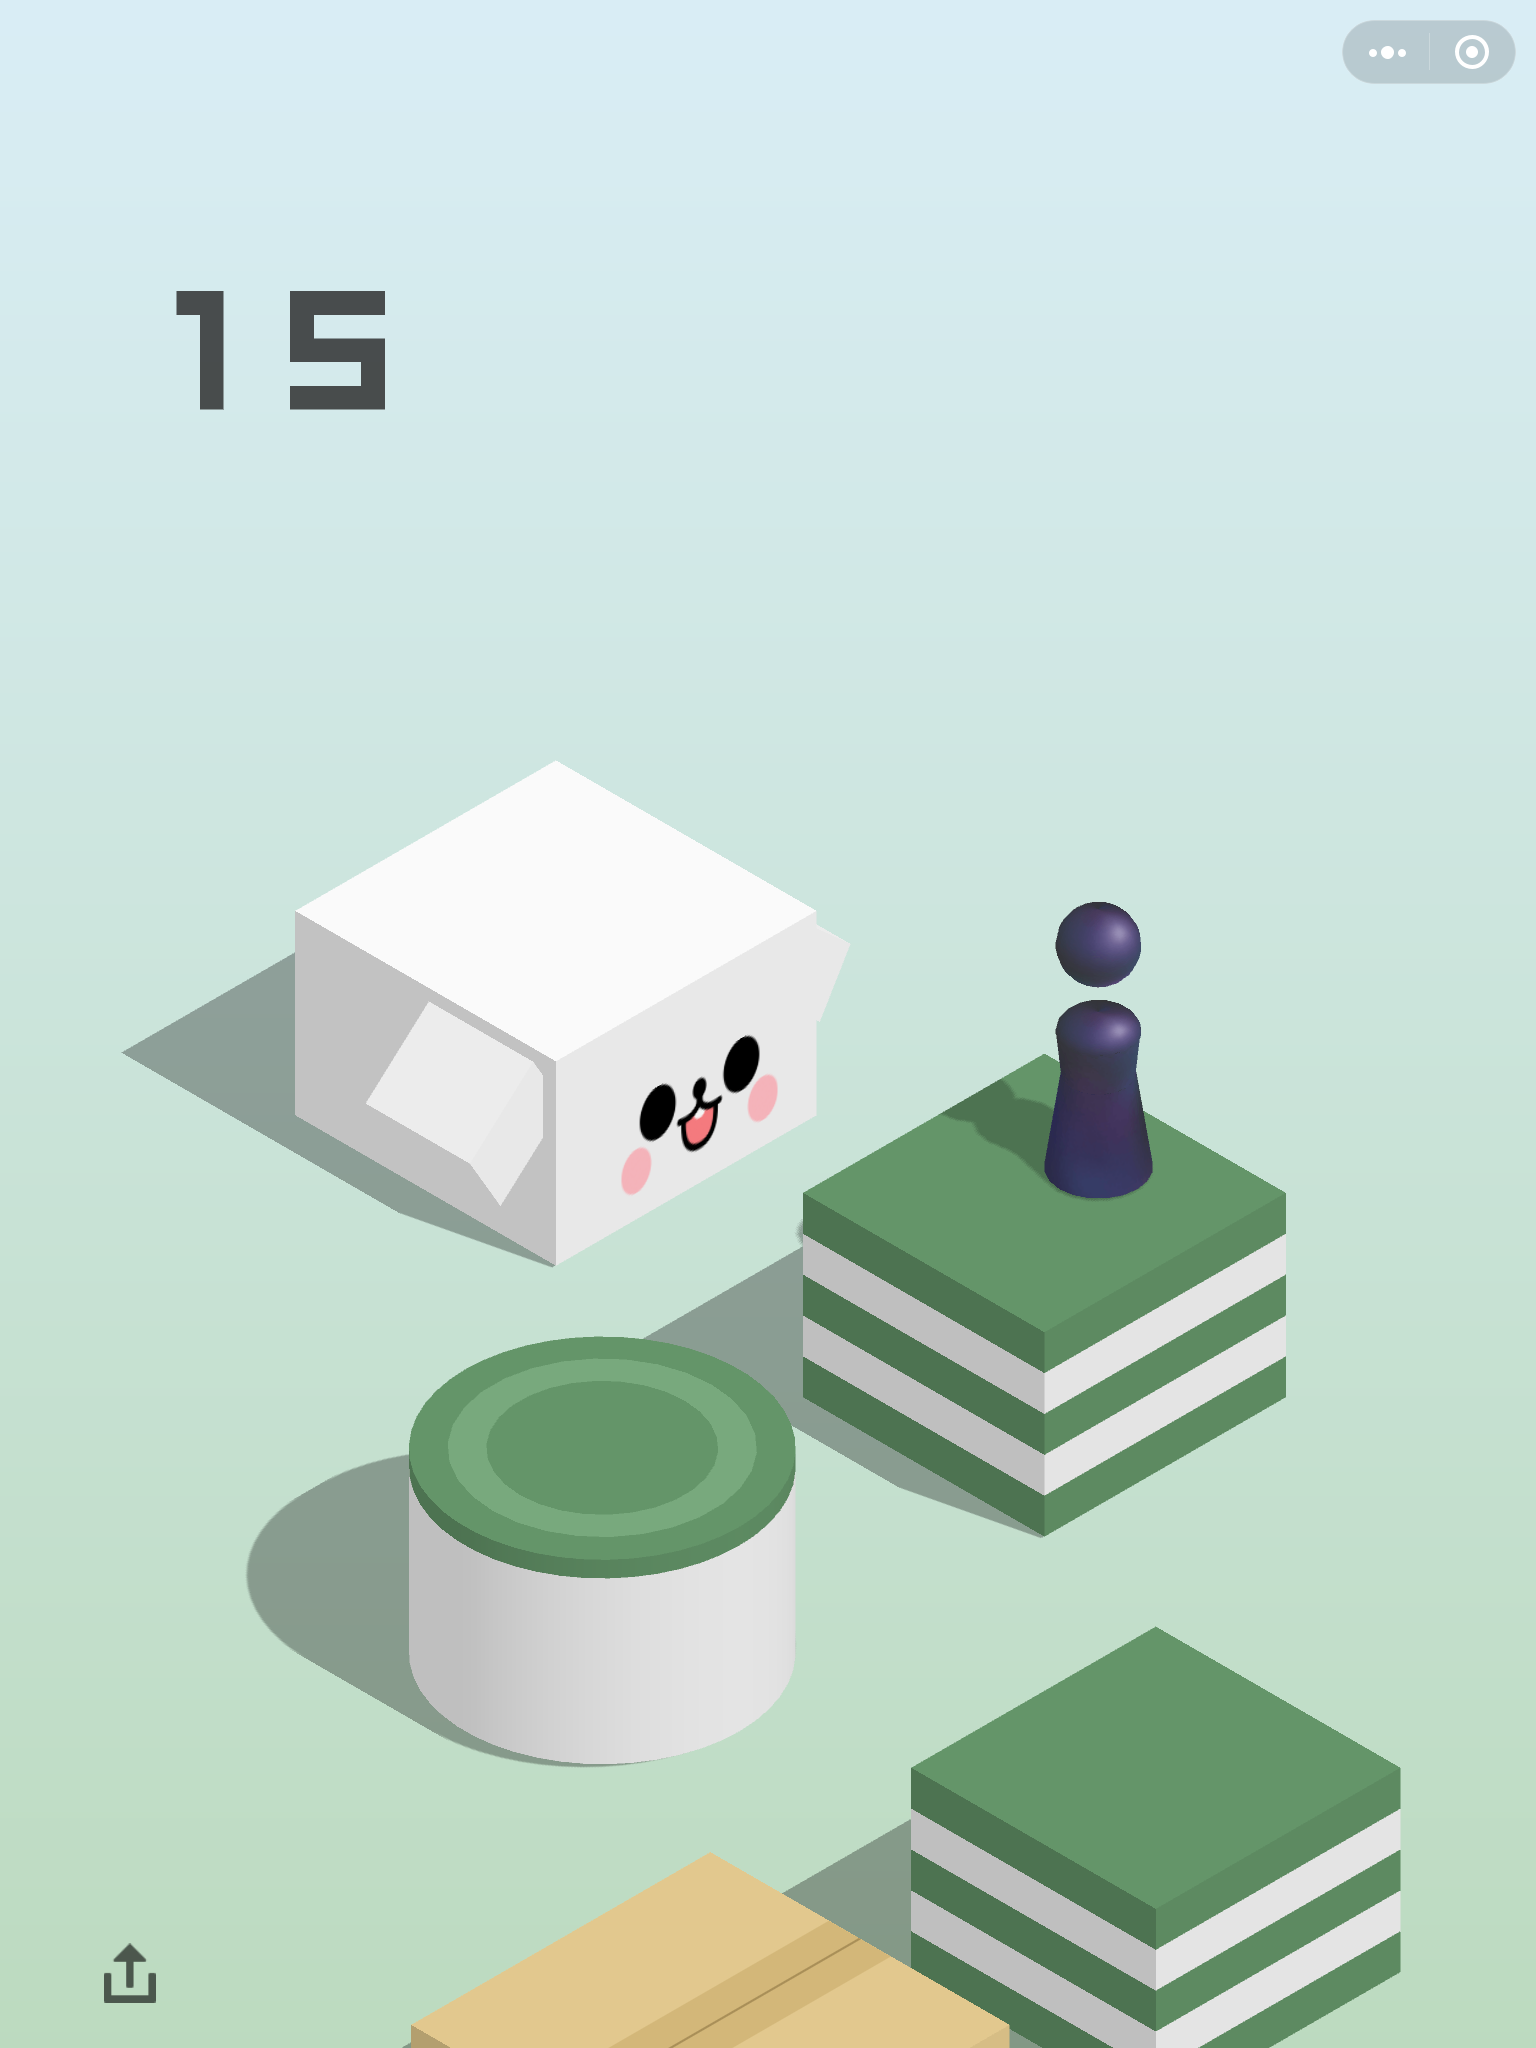c: (400, 1330, 810, 1780)
f: (286, 755, 854, 1276), (799, 1034, 1297, 1550), (907, 1622, 1409, 2048), (408, 1850, 1013, 2048)
r: (1036, 895, 1158, 1208)
